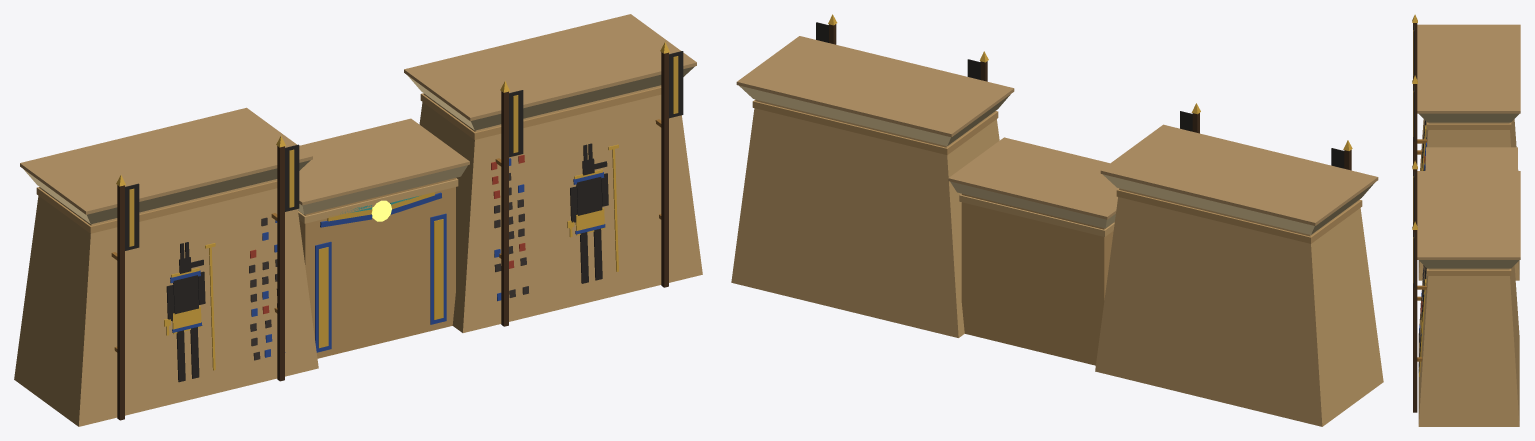
File: desert_temple_gate.glb
3 renders of one model, left to right at view 1: azimuth 30°, elevation 25°; view 2: azimuth 150°, elevation 25°; view 3: azimuth 270°, elevation 25°, orthographic. The views are drawn at different scales.
Parts seen in each view (by area): view 1: desert_temple_gate; view 2: desert_temple_gate; view 3: desert_temple_gate.
Boxes of the visible parts, x1=… form: desert_temple_gate: x1=14, y1=14, x2=702, y2=426; desert_temple_gate: x1=731, y1=14, x2=1383, y2=426; desert_temple_gate: x1=1412, y1=14, x2=1520, y2=426.
Size of the model in its own units: 39 by 14.6 by 7.54.
